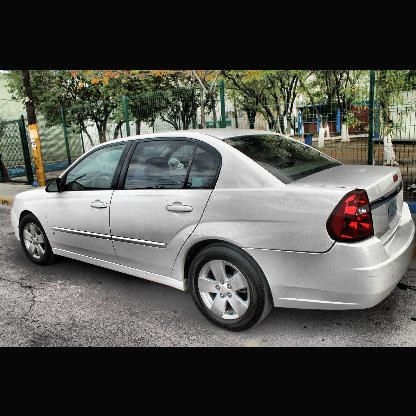Chevrolet Malibu Sedan 2007: (2, 117, 416, 337)
